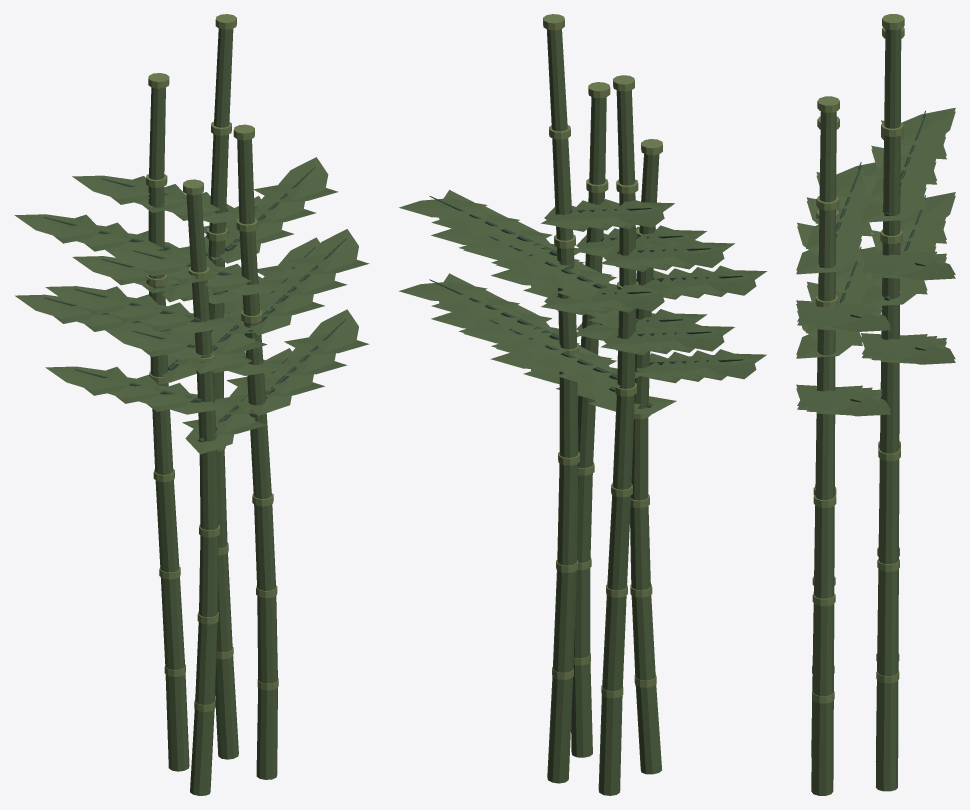
Rendered from NA_BambooClump.glb.
3 renders of one model, left to right at view 1: azimuth 30°, elevation 25°; view 2: azimuth 150°, elevation 25°; view 3: azimuth 270°, elevation 25°, orthographic. The views are drawn at different scales.
Parts seen in each view (by area): view 1: NA_BambooClump; view 2: NA_BambooClump; view 3: NA_BambooClump.
Part boxes in pixels (<box>): NA_BambooClump: <box>14,14,369,795</box>; NA_BambooClump: <box>399,14,766,795</box>; NA_BambooClump: <box>796,14,955,795</box>.
Size of the model in its own units: 1.42 by 3.29 by 0.6182.
